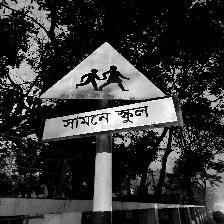School-in-front: (38, 42, 182, 143)
